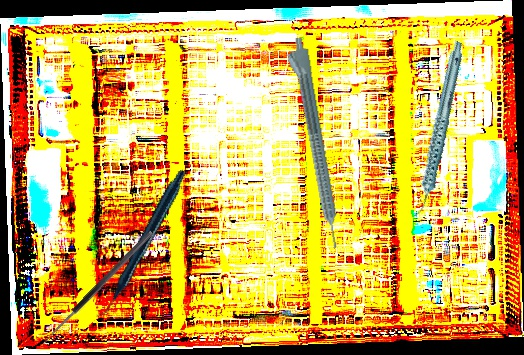Handpiece: (54, 168, 226, 318), (378, 40, 498, 219), (281, 36, 344, 251)
Hook Surgical: (39, 229, 160, 353)
